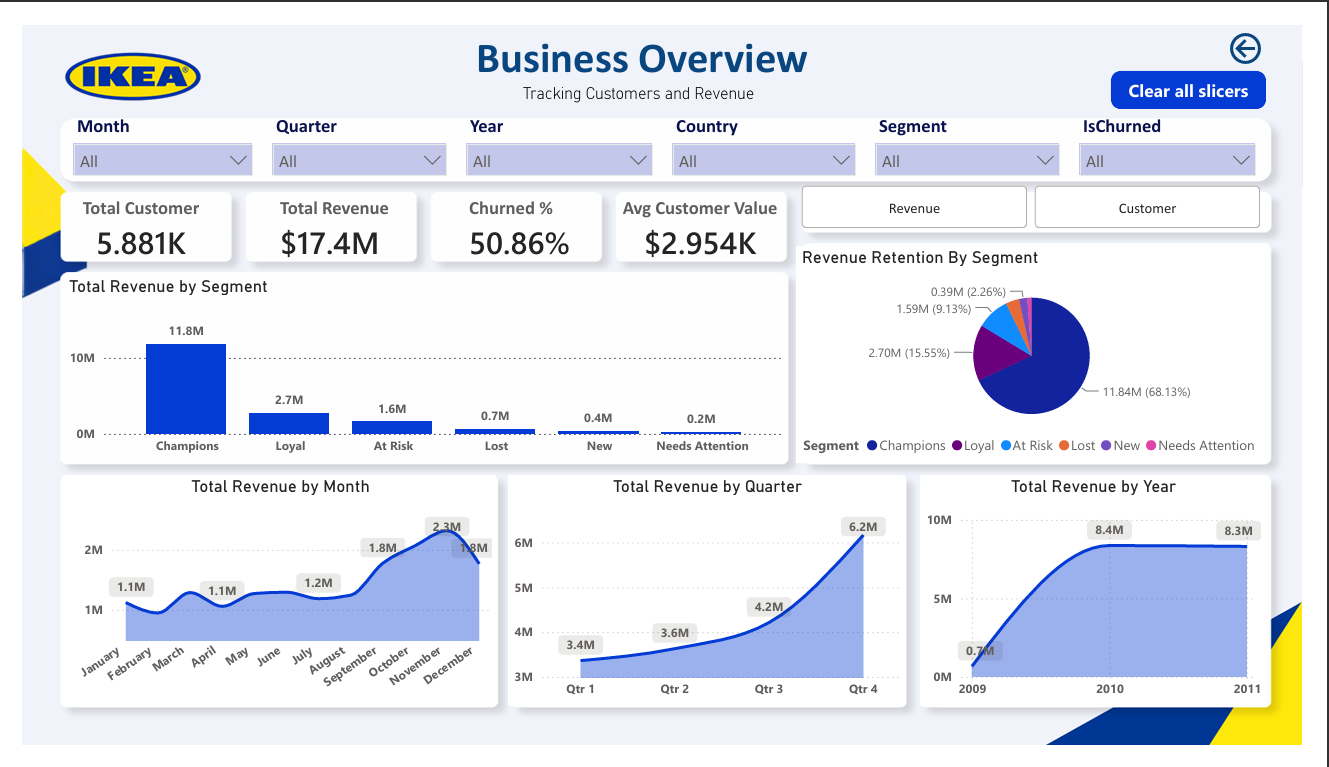

Layout of this report page (visuals, bound fields, positions):
{"tool":"powerbi","page":{"name":"Business Overview","canvas":[1280,720],"ordinal":1},"visuals":[{"type":"image","box":[41.4,0,137.9,101.7],"z":0},{"type":"textbox","box":[448.3,0,355.2,70.7],"z":1000},{"type":"textbox","box":[486.2,51.7,269,31],"z":2000},{"type":"actionButton","box":[1201.7,0,41.4,44.8],"z":3000},{"type":"actionButton","box":[1087.9,44.8,155.2,37.9],"z":4000},{"type":"slicer","fields":{"Values":["Sheet1.InvoiceDate.Variation.Date Hierarchy.Month"]},"box":[41.4,82.8,198.3,72.4],"z":5000},{"type":"slicer","fields":{"Values":["Sheet1.InvoiceDate.Variation.Date Hierarchy.Quarter"]},"box":[239.7,82.8,194.8,72.4],"z":6000},{"type":"slicer","fields":{"Values":["Sheet1.InvoiceDate.Variation.Date Hierarchy.Year"]},"box":[434.5,82.8,205.2,72.4],"z":7000},{"type":"slicer","fields":{"Values":["Sheet1.Country"]},"box":[639.7,82.8,203.4,72.4],"z":8000},{"type":"slicer","fields":{"Values":["Sheet1.Segment"]},"box":[843.1,82.8,203.4,72.4],"z":9000},{"type":"slicer","fields":{"Values":["Sheet1.IsChurned"]},"box":[1046.6,82.8,196.6,72.4],"z":10000},{"type":"cardVisual","fields":{"Data":["Sheet1.Total Customer"]},"box":[29.3,155.2,177.6,94.8],"z":11000},{"type":"cardVisual","fields":{"Data":["Sheet1.Total Revenue"]},"box":[227.6,155.2,177.6,94.8],"z":12000},{"type":"cardVisual","fields":{"Data":["Sheet1.Churned %"]},"box":[417.2,155.2,177.6,94.8],"z":13000},{"type":"cardVisual","fields":{"Data":["Sheet1.Avg Customer Value"]},"box":[563.8,155.2,225.9,94.8],"z":14000},{"type":"clusteredColumnChart","title":"Total Revenue by Segment","fields":{"Category":["Sheet1.Segment"],"Y":["View Toggle.Dynamic Metric"]},"box":[41.4,250,725.9,187.9],"z":15000},{"type":"pieChart","title":"Revenue Retention By Segment","fields":{"Category":["Sheet1.Segment"],"Y":["View Toggle.Dynamic Metric"]},"box":[774.1,220.7,469,217.2],"z":16000},{"type":"advancedSlicerVisual","fields":{"Values":["View Toggle.View"]},"box":[774.1,155.2,469,51.7],"z":17000},{"type":"lineChart","title":"Total Revenue by Month","fields":{"Category":["Sheet1.InvoiceDate.Variation.Date Hierarchy.Month"],"Y":["View Toggle.Dynamic Metric"]},"box":[41.4,450,432.8,231],"z":18000},{"type":"lineChart","title":"Total Revenue by Quarter","fields":{"Category":["Sheet1.InvoiceDate.Variation.Date Hierarchy.Quarter"],"Y":["View Toggle.Dynamic Metric"]},"box":[486.2,450,396.6,231],"z":19000},{"type":"lineChart","title":"Total Revenue by Year","fields":{"Category":["Sheet1.InvoiceDate.Variation.Date Hierarchy.Year"],"Y":["View Toggle.Dynamic Metric"]},"box":[898.3,450,344.8,231],"z":20000}]}

Visuals, with their boxes in screenshot pixels (x1, y1, x2, y2), scaled from the page's 1280x720 canvas onto the 1329x767 screenshot:
image: [left=43, top=0, right=186, bottom=108]
textbox: [left=465, top=0, right=834, bottom=75]
textbox: [left=505, top=55, right=784, bottom=88]
actionButton: [left=1248, top=0, right=1291, bottom=48]
actionButton: [left=1130, top=48, right=1291, bottom=88]
slicer - Sheet1.InvoiceDate.Variation.Date Hierarchy.Month: [left=43, top=88, right=249, bottom=165]
slicer - Sheet1.InvoiceDate.Variation.Date Hierarchy.Quarter: [left=249, top=88, right=451, bottom=165]
slicer - Sheet1.InvoiceDate.Variation.Date Hierarchy.Year: [left=451, top=88, right=664, bottom=165]
slicer - Sheet1.Country: [left=664, top=88, right=875, bottom=165]
slicer - Sheet1.Segment: [left=875, top=88, right=1087, bottom=165]
slicer - Sheet1.IsChurned: [left=1087, top=88, right=1291, bottom=165]
cardVisual - Sheet1.Total Customer: [left=30, top=165, right=215, bottom=266]
cardVisual - Sheet1.Total Revenue: [left=236, top=165, right=421, bottom=266]
cardVisual - Sheet1.Churned %: [left=433, top=165, right=618, bottom=266]
cardVisual - Sheet1.Avg Customer Value: [left=585, top=165, right=820, bottom=266]
"Total Revenue by Segment" clusteredColumnChart: [left=43, top=266, right=797, bottom=466]
"Revenue Retention By Segment" pieChart: [left=804, top=235, right=1291, bottom=466]
advancedSlicerVisual - View Toggle.View: [left=804, top=165, right=1291, bottom=220]
"Total Revenue by Month" lineChart: [left=43, top=479, right=492, bottom=725]
"Total Revenue by Quarter" lineChart: [left=505, top=479, right=917, bottom=725]
"Total Revenue by Year" lineChart: [left=933, top=479, right=1291, bottom=725]
